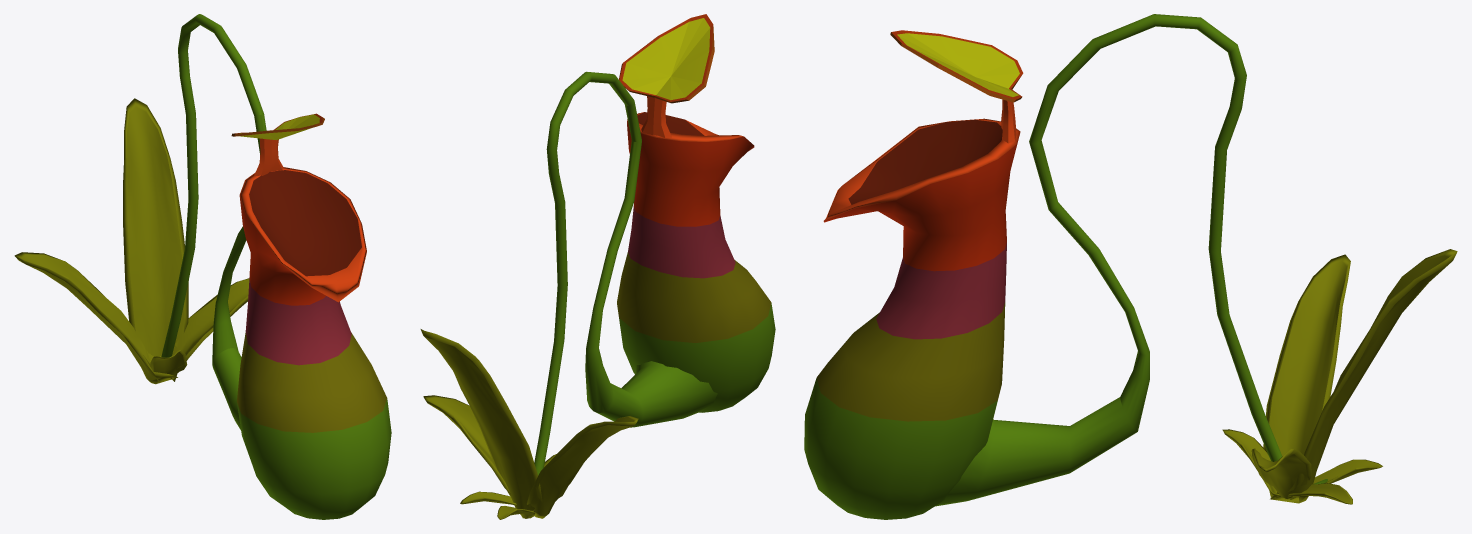
Rendered from Pitcher_Plant_001.fbx.
3 views of the same model, side by side, from view 1: azimuth 30°, elevation 25°; view 2: azimuth 150°, elevation 25°; view 3: azimuth 270°, elevation 25° (orthographic). The views are drawn at different scales.
Parts seen in each view (by area): view 1: pCube14; view 2: pCube14; view 3: pCube14.
Part boxes in pixels (x1,y1,x2,y2): pCube14: [14, 14, 391, 519]; pCube14: [420, 14, 775, 519]; pCube14: [804, 14, 1457, 519].
Bounding box in the file's own units: 0.896 × 1.41 × 1.7.
